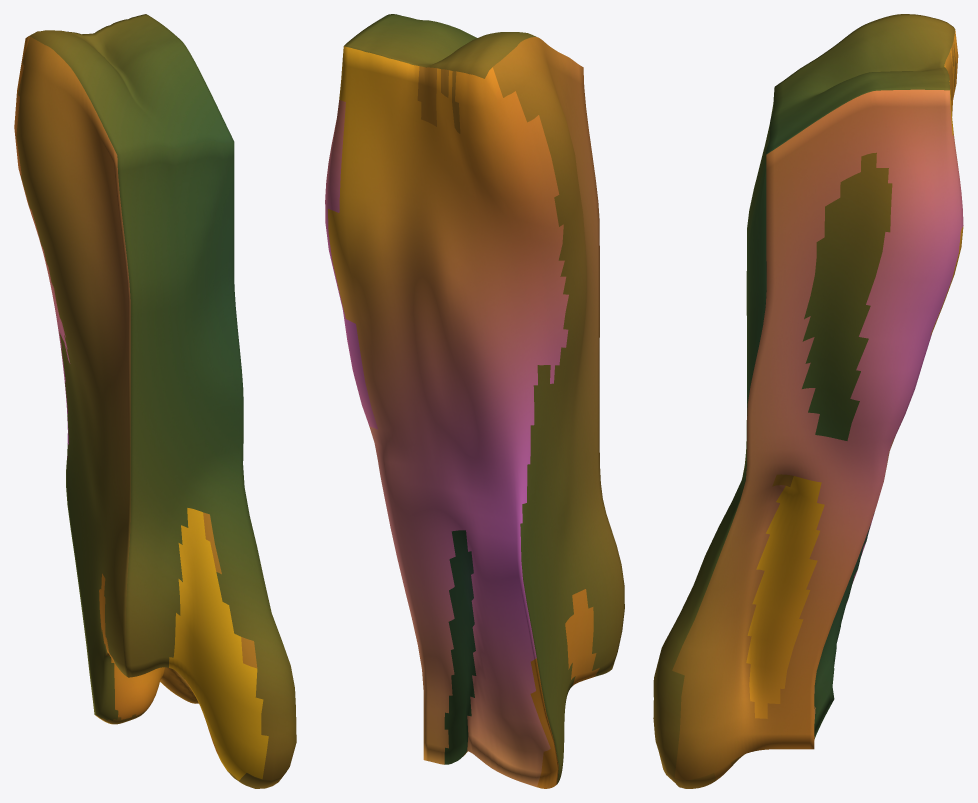
File: pav.glb
The picture shows the model from 3 angles, left to right: view 1: azimuth 30°, elevation 25°; view 2: azimuth 150°, elevation 25°; view 3: azimuth 270°, elevation 25°; orthographic projection. The views are drawn at different scales.
Parts seen in each view (by area): view 1: Cube; view 2: Cube; view 3: Cube.
Boxes of the visible parts, box(x1,y1,x2,y2) form: Cube: box(14, 14, 296, 788); Cube: box(325, 14, 624, 788); Cube: box(653, 14, 963, 788).
Size of the model in its own units: 0.3039 by 1.13 by 0.4409.
1 material, 1 textured.
